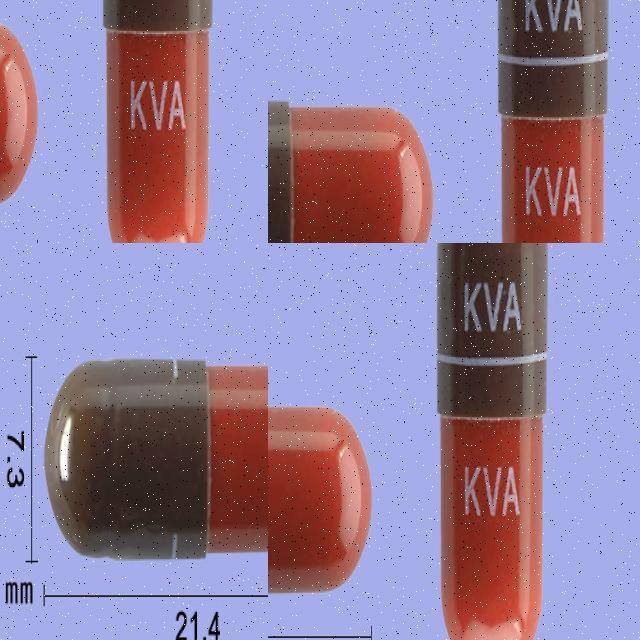Levogun -250mg: (268, 79, 426, 243), (387, 0, 640, 73)
Meiact Tab- Boryung: (156, 421, 268, 640)
Rithcinn Tab: (0, 57, 66, 243)
Vemlidy Tab: (438, 243, 549, 640), (268, 401, 374, 601)
